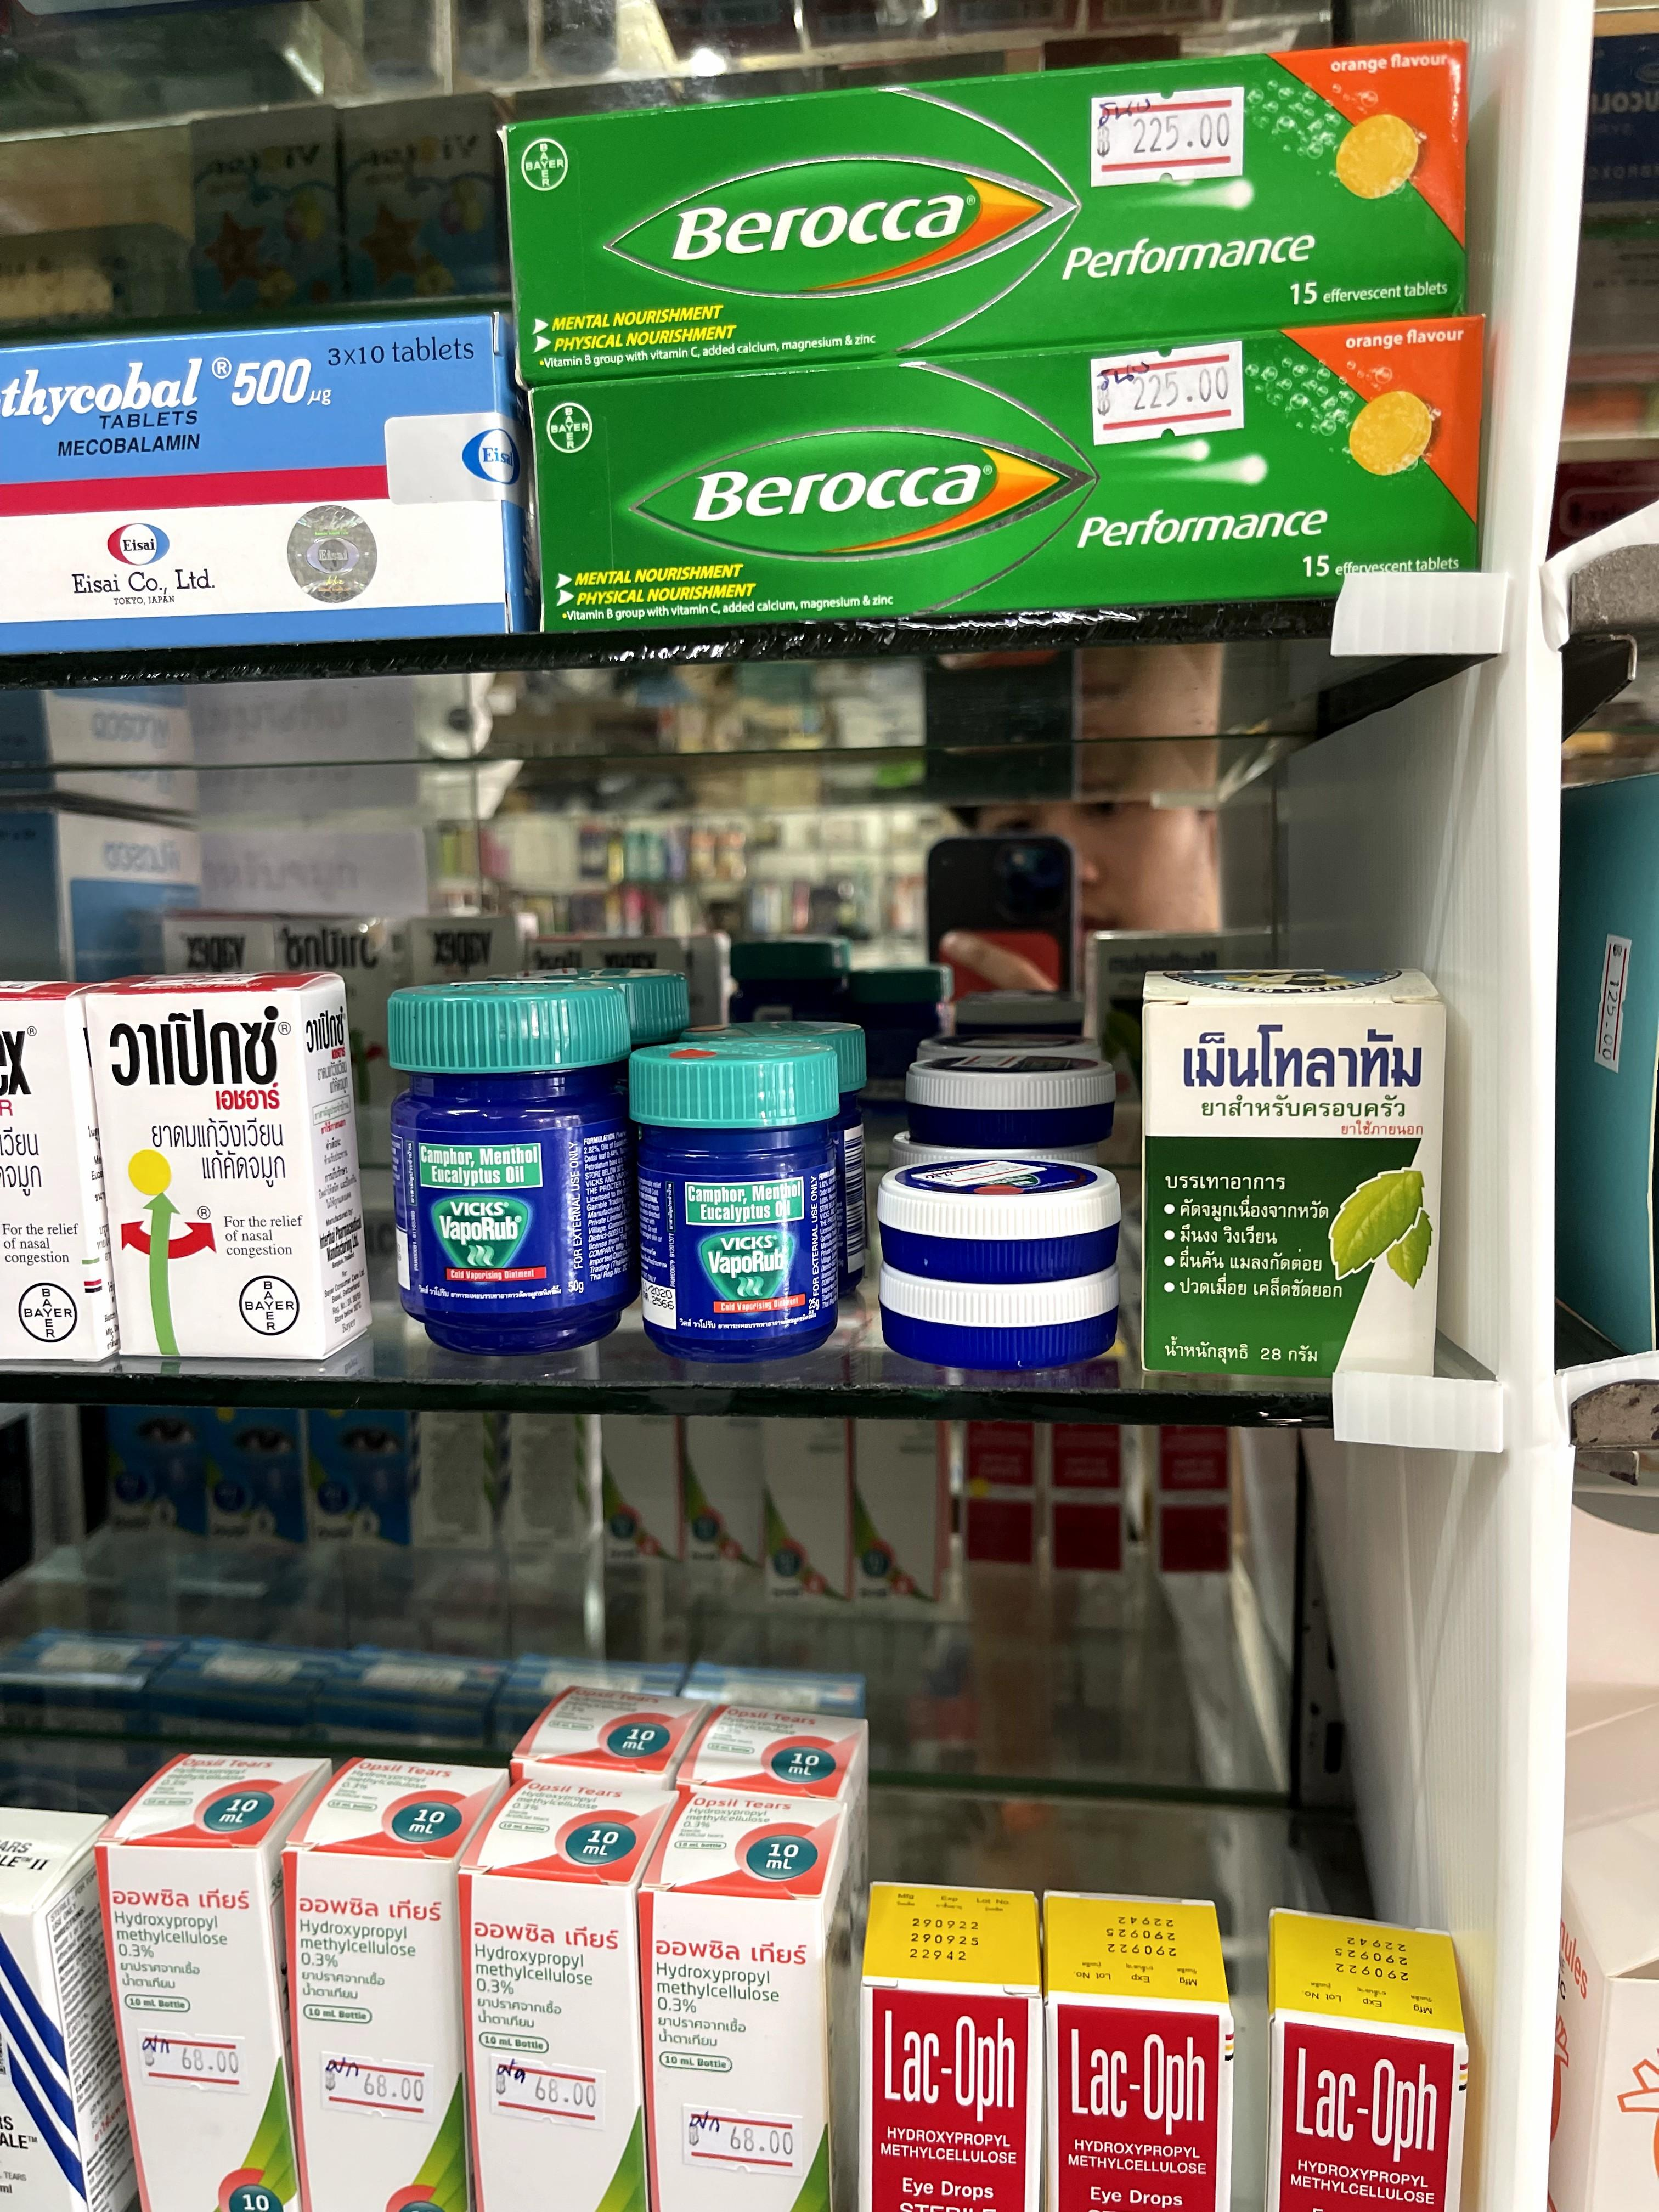Lac-Oph_Red: (1270, 1898, 1462, 2212), (1042, 1893, 1229, 2212), (866, 1885, 1042, 2212)
VapoRub_Big: (390, 974, 636, 1350)
VapoRub_Mid: (636, 1050, 835, 1359)
VapoRub_Small: (884, 1151, 1124, 1284), (878, 1261, 1119, 1364), (911, 1049, 1119, 1146)
